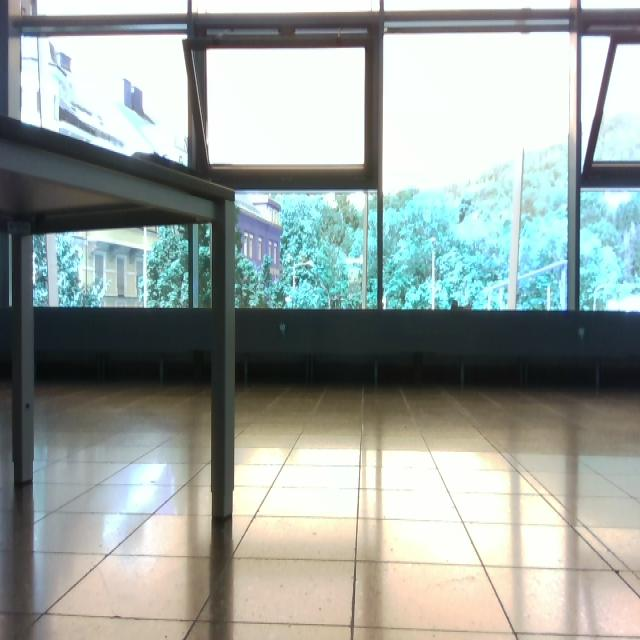light bulb: (430, 237, 437, 309), (285, 296, 292, 304), (431, 237, 436, 244)
pillar: (11, 232, 35, 485)
tiled floor: (2, 380, 639, 638)
window: (8, 1, 639, 316), (382, 21, 573, 312), (19, 7, 193, 171)
